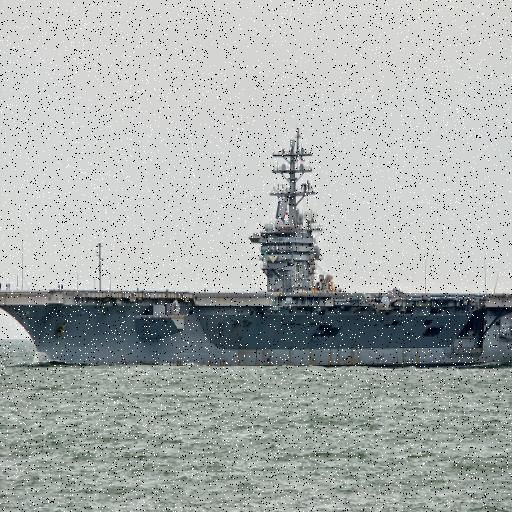Portanaves: (1, 123, 512, 371)
